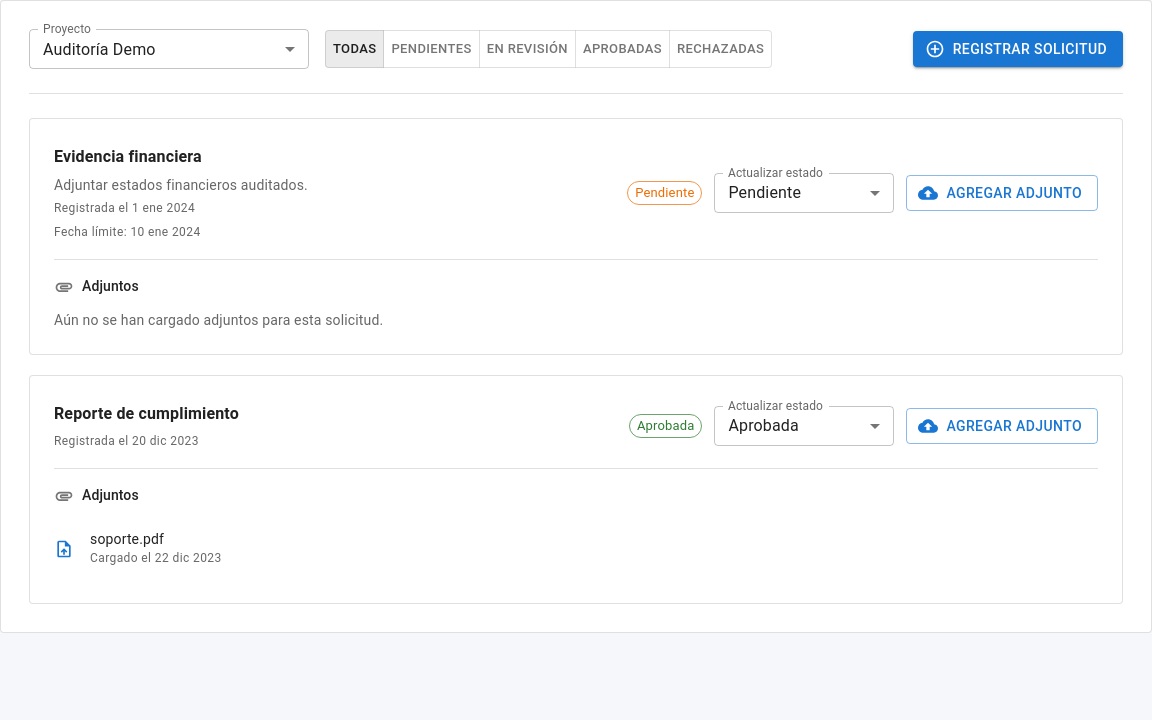
Test: RequestBoard › filtra solicitudes por estado y muestra adjuntos existentes
This screenshot has width=1152, height=720.
Expected: the heading "Evidencia financiera" is shown, [54,147,202,166]
Expected: the heading "Reporte de cumplimiento" is shown, [54,400,239,428]
Click the button "Aprobadas". click: (622, 49)
box: [575,30,670,68]
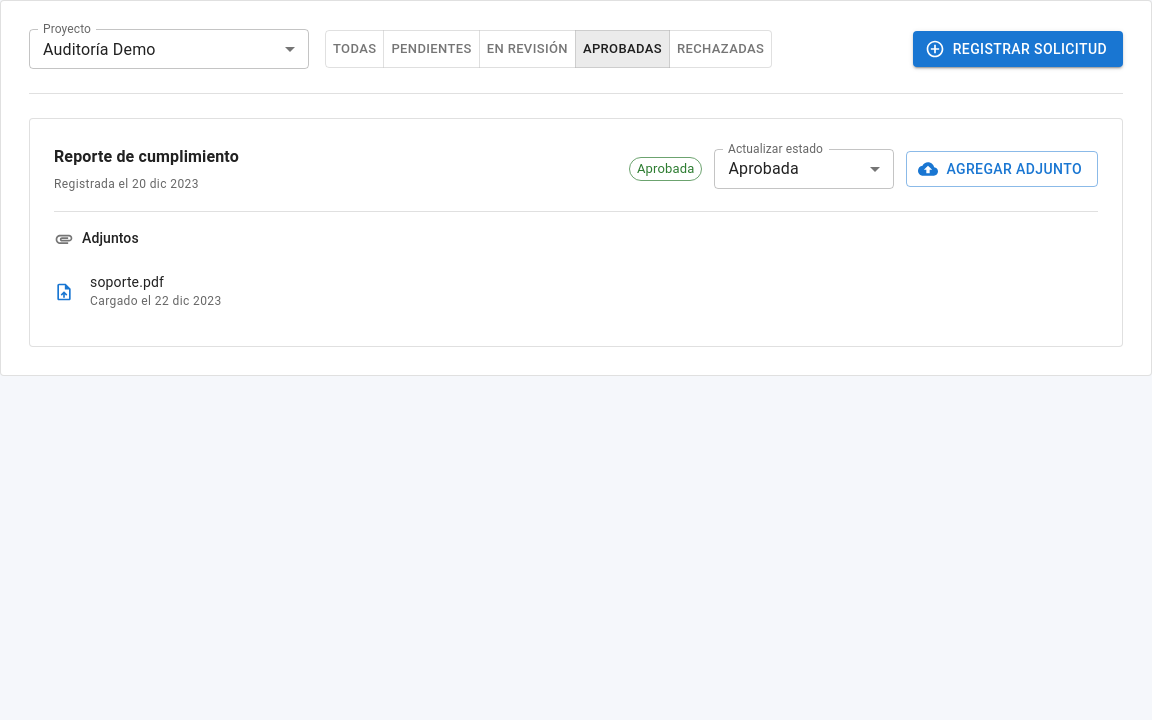
Expected: the heading "Reporte de cumplimiento" is shown, [54,143,239,171]
Expected: the heading "Evidencia financiera" is gone
